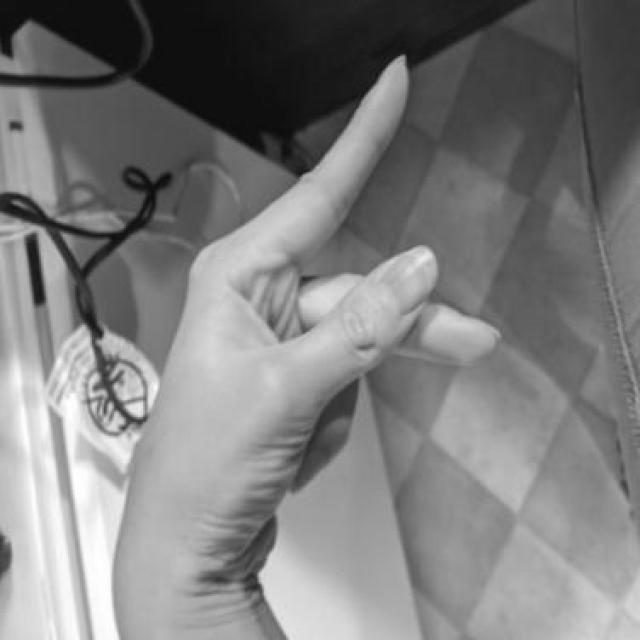P: (100, 39, 522, 592)
